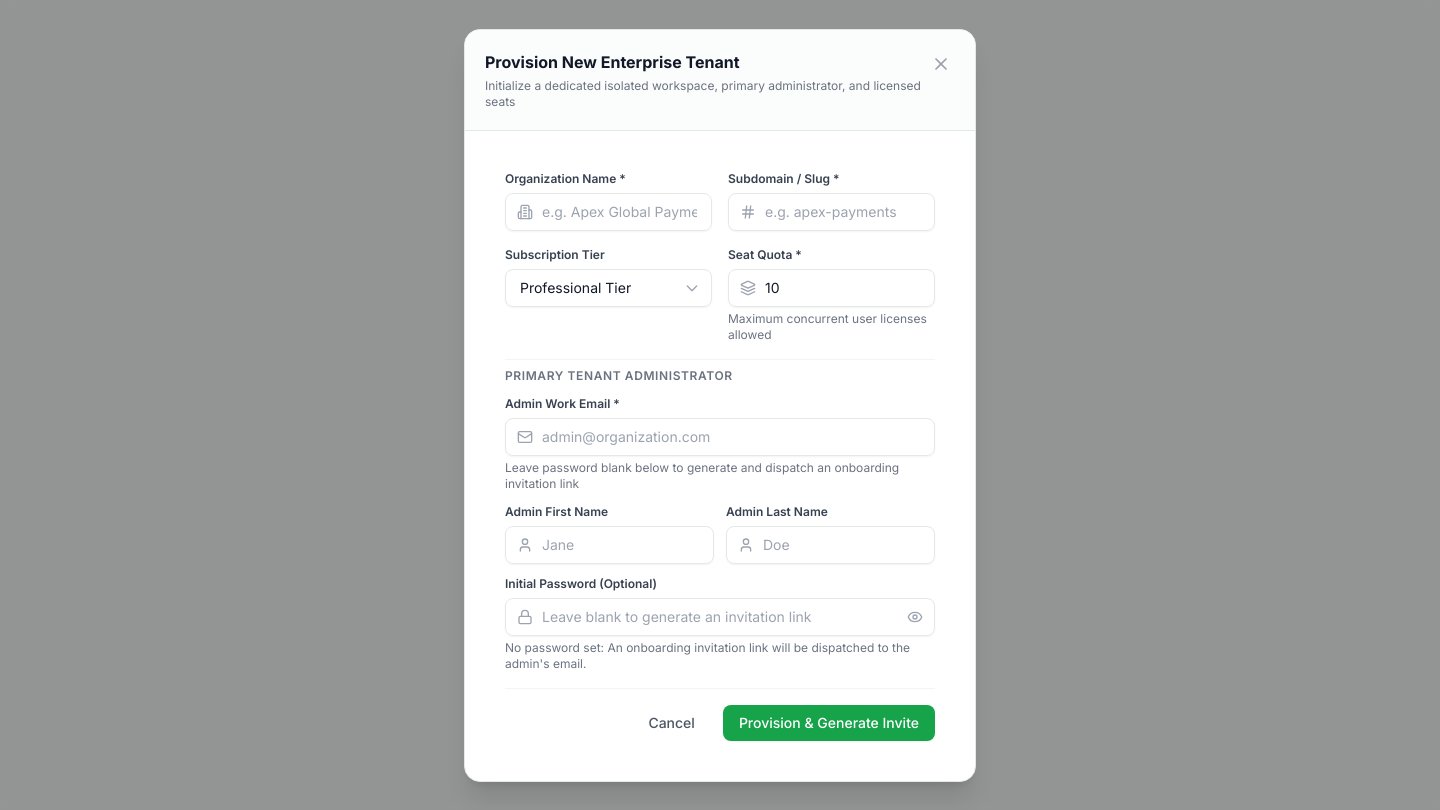
Scenario: CreateTenantModal Component › validates password length if password is provided
Type "Zenith Bank" into the field labelled "Organization Name *".
click(608, 212); type("Zenith Bank")  # box [505,192,712,230]
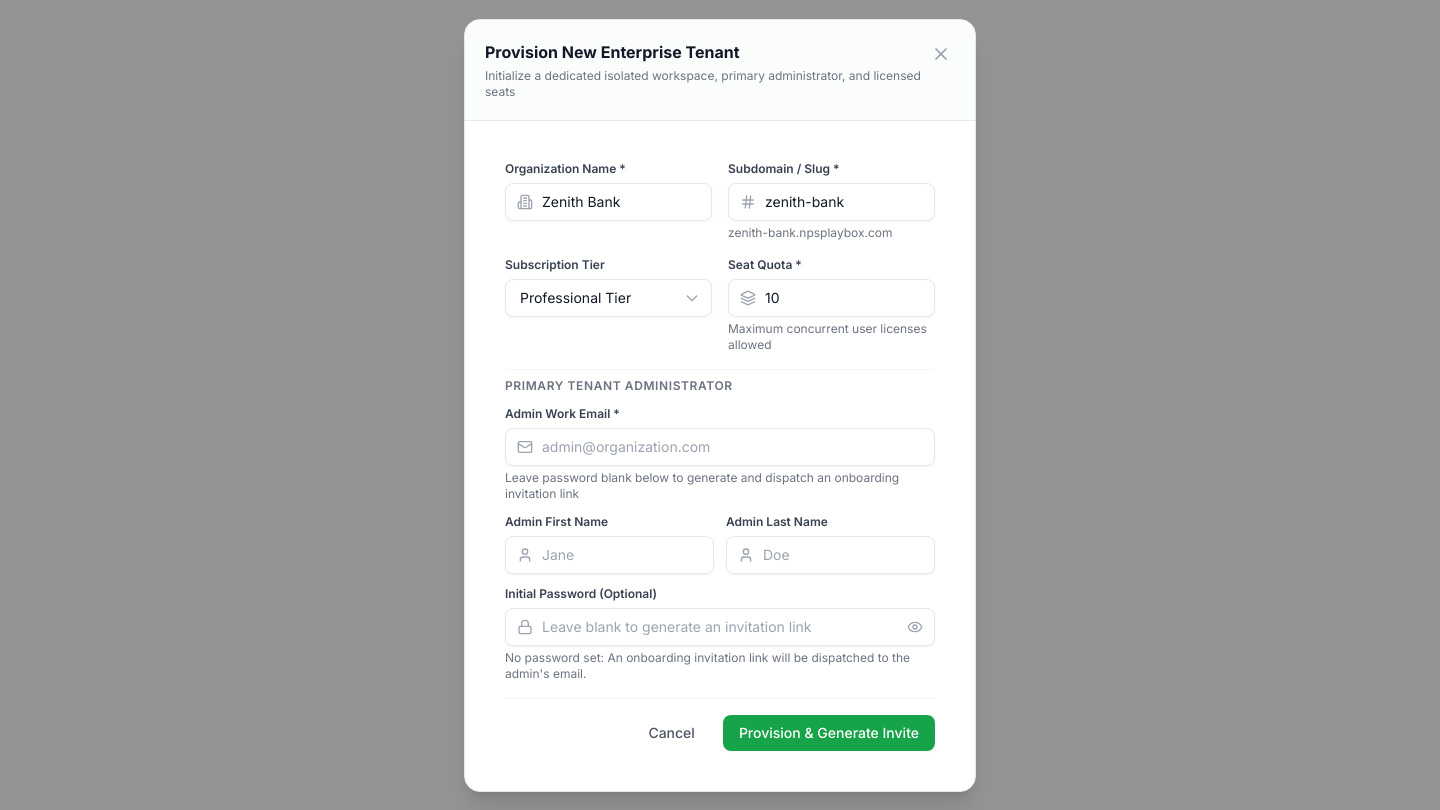
Type "admin@zenith.com" into the field labelled "Admin Work Email *".
click(720, 446); type("admin@zenith.com")  # box [505,428,935,466]
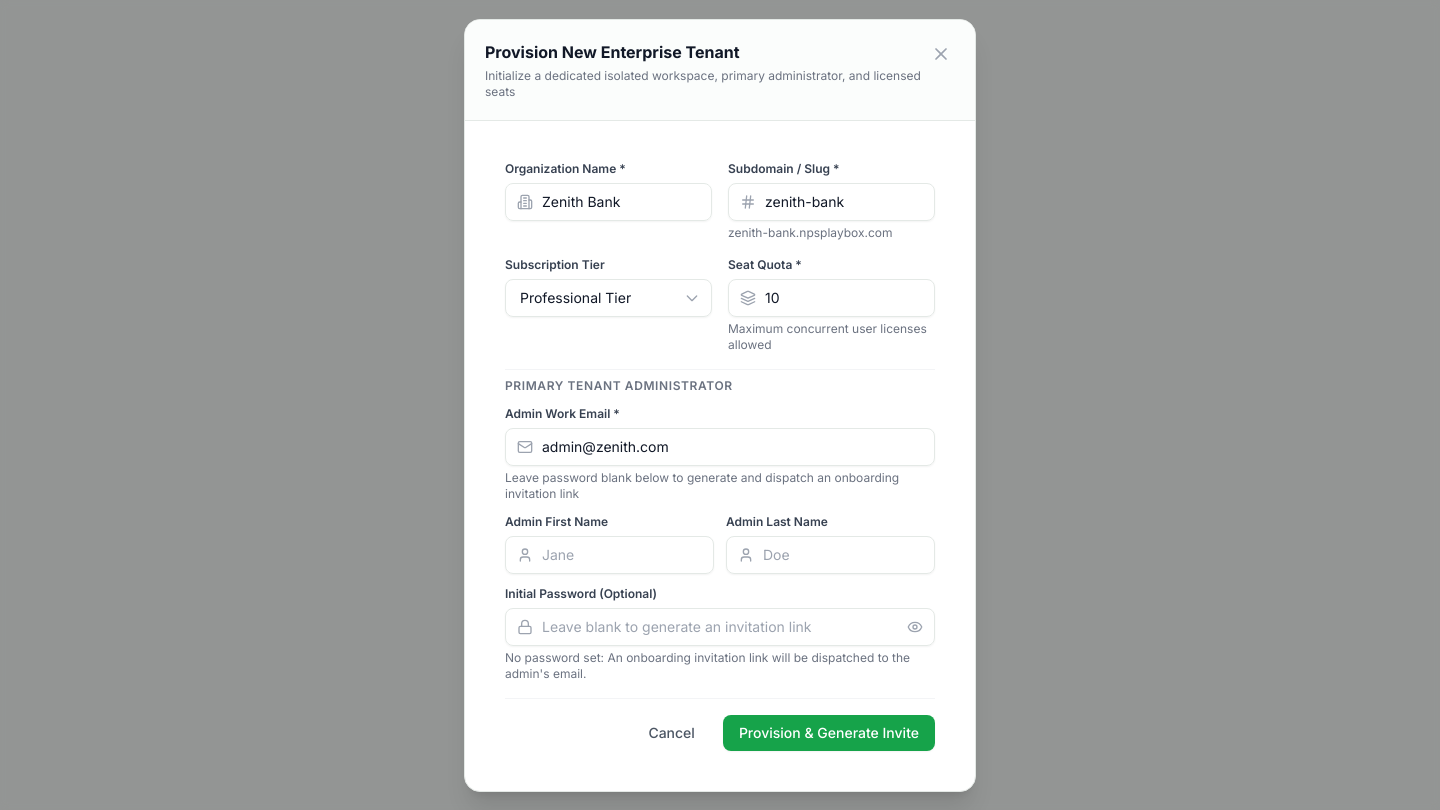
Type "short" into the password field labelled "Initial Password (Optional)".
click(720, 626); type("short")  # box [505,608,935,646]
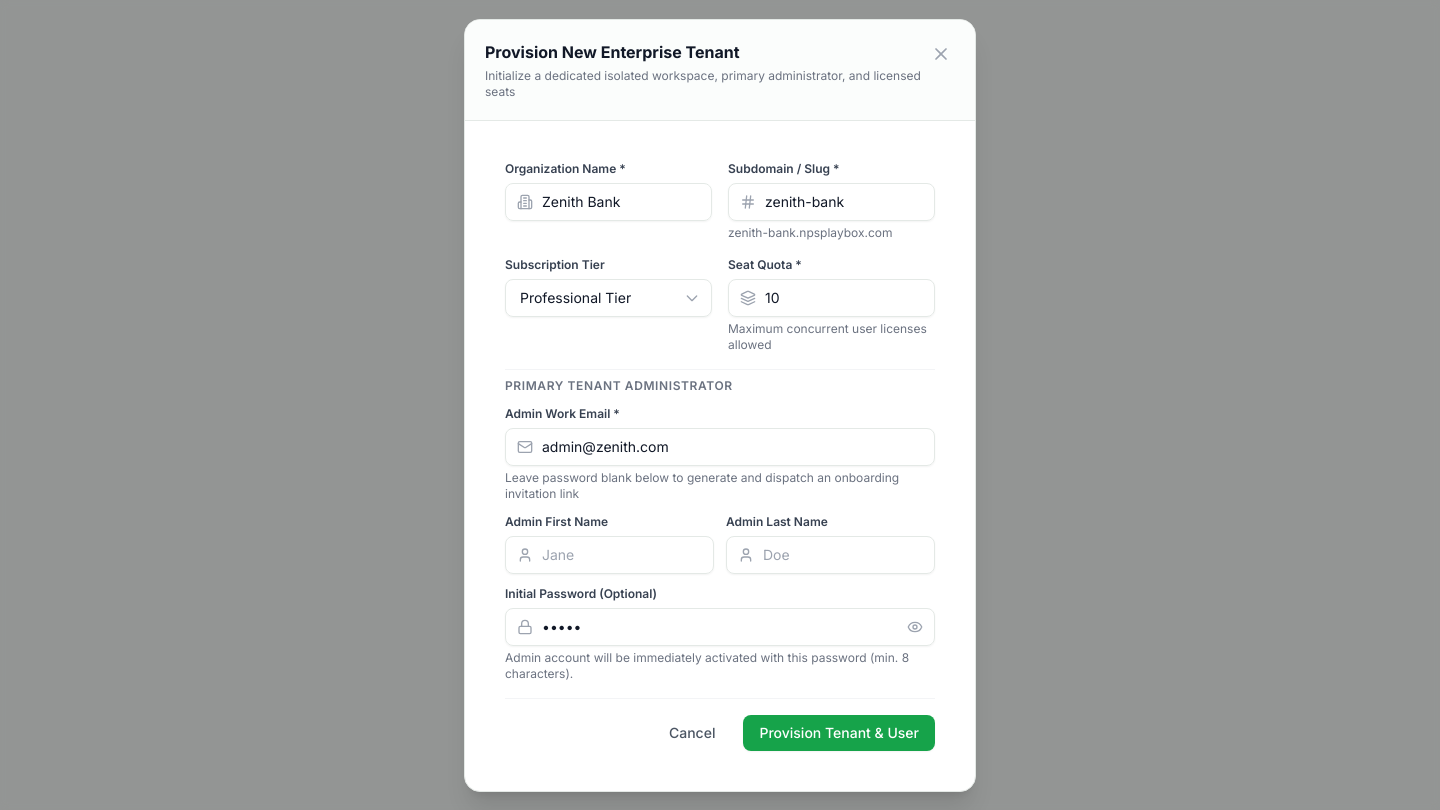
Check: the button "Provision Tenant & User" is shown
Click the button "Provision Tenant & User".
click(839, 732)  # box [743,714,935,750]
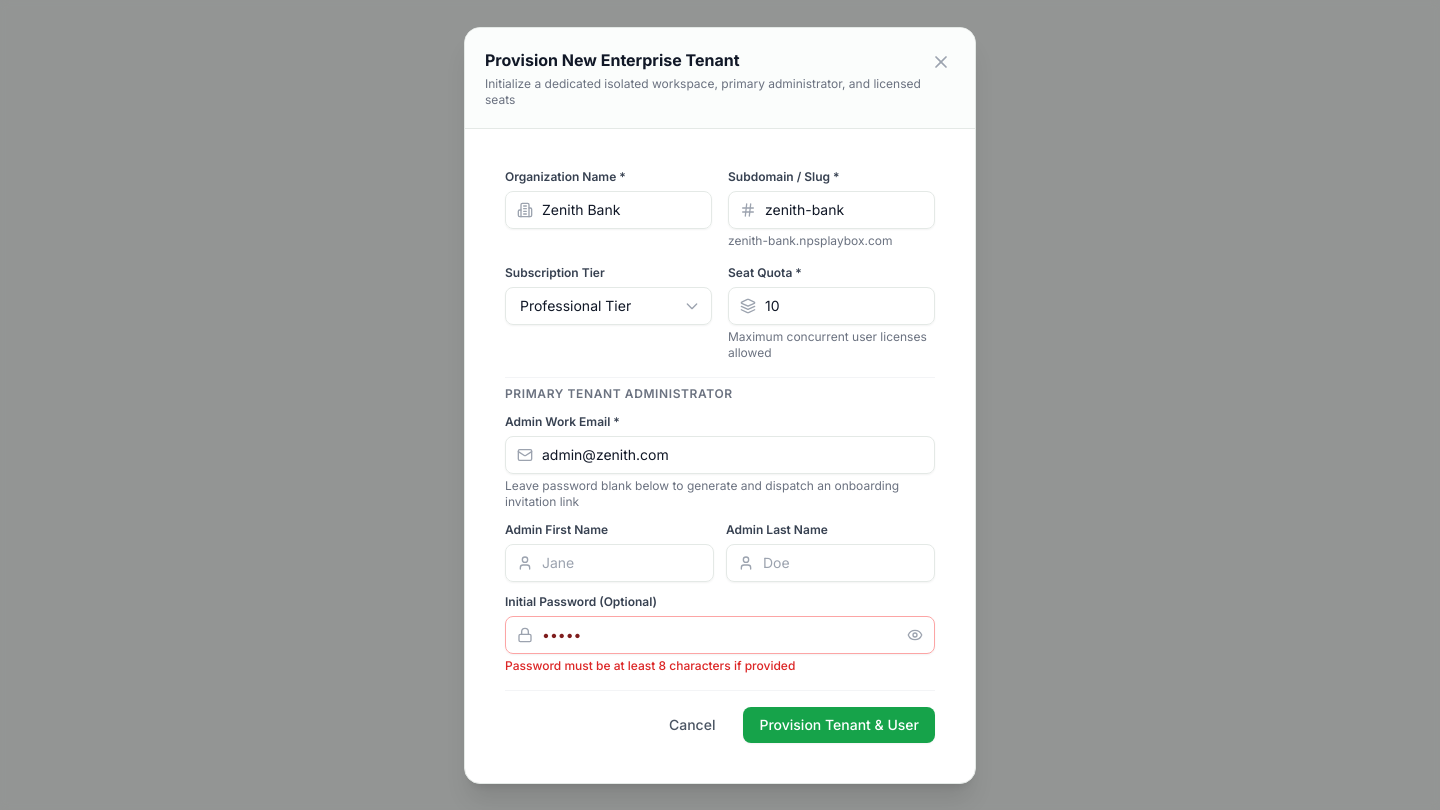
Check: the text "Password must be at least 8 characters if provided" is shown, box [505,658,795,672]
